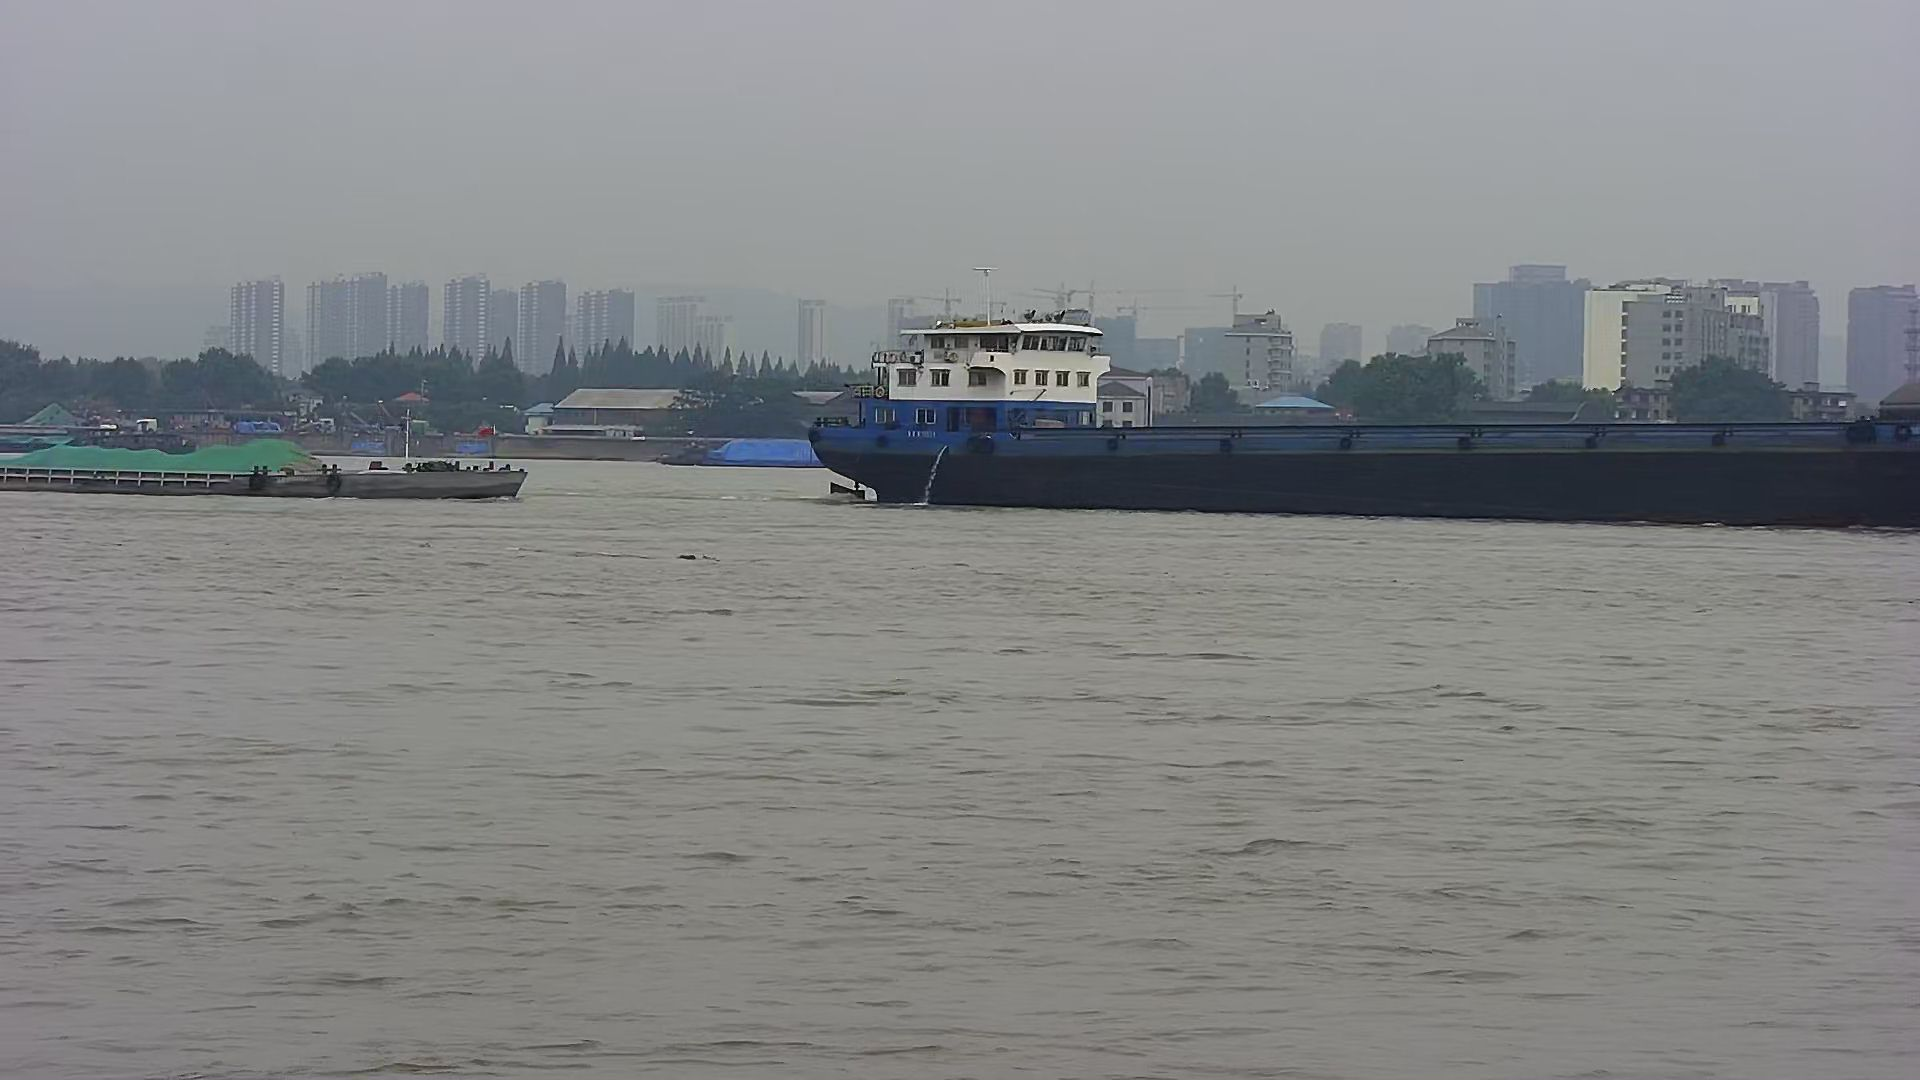boat: (258, 440, 525, 500)
ship: (806, 295, 1913, 539)
